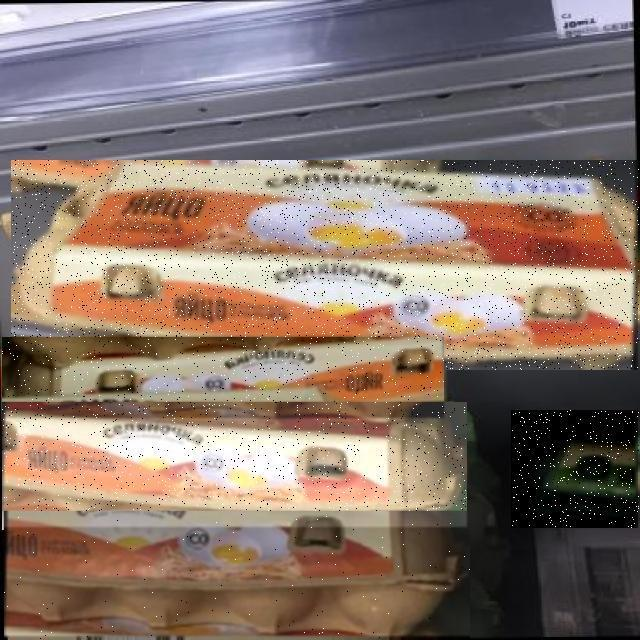Eggs: (12, 161, 640, 371), (5, 512, 471, 640), (2, 402, 467, 530), (2, 337, 444, 418), (512, 410, 640, 528)
